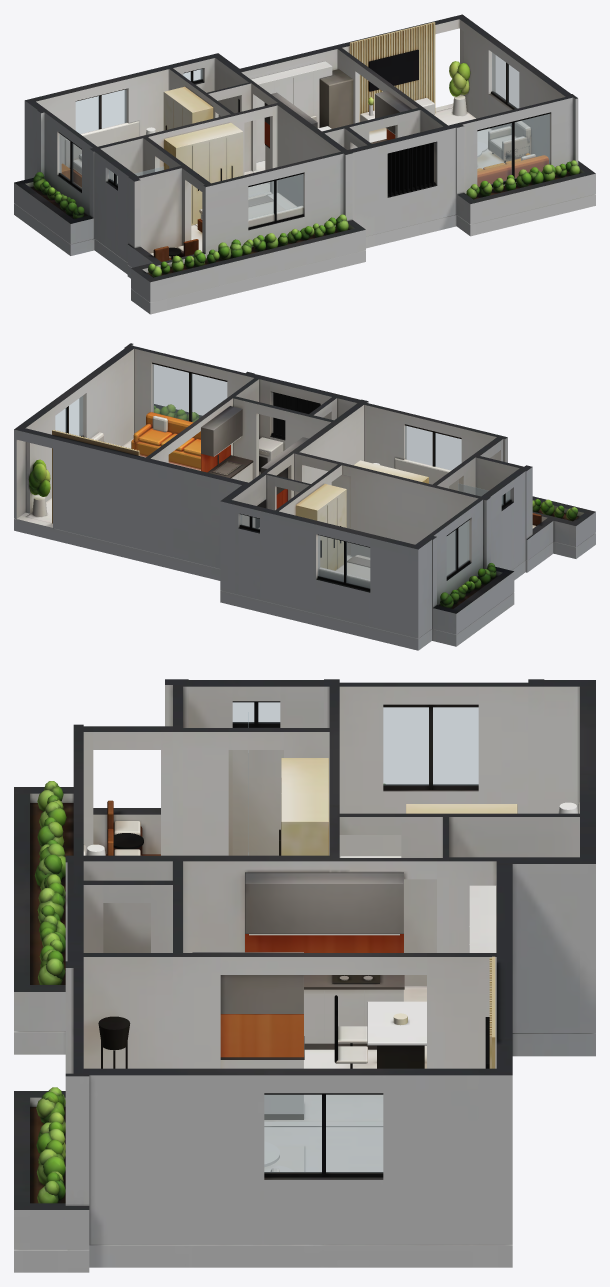
Rendered from interior_A.glb.
3 views of the same model, one above another, from view 1: azimuth 30°, elevation 25°; view 2: azimuth 150°, elevation 25°; view 3: azimuth 270°, elevation 25° (orthographic). The views are drawn at different scales.
Parts seen in each view (by area): view 1: interior_A, glass_A; view 2: interior_A, glass_A; view 3: interior_A, glass_A.
Boxes of the visible parts, x1,y1,x2,y2 form: interior_A: (14,14,595,314); glass_A: (59,52,549,220); interior_A: (14,343,595,650); glass_A: (55,364,510,588); interior_A: (14,679,595,1272); glass_A: (233,702,478,1172).
Bounding box in the file's own units: 12.6 × 2.77 × 7.33.
Materials: 2 (1 with a texture image).
